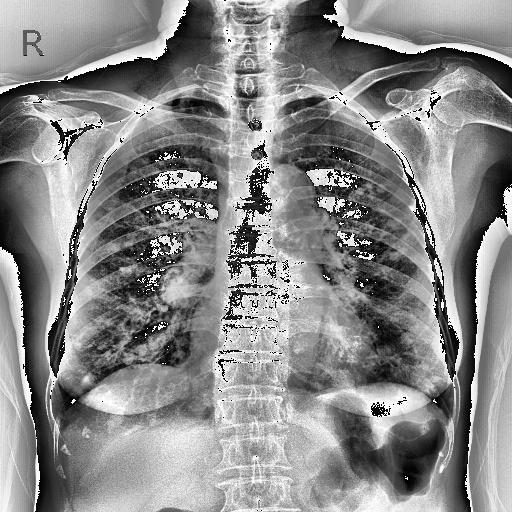0- Aortic enlargement: (250, 164, 318, 224)
10- Pleural effusion: (50, 409, 72, 438)
11- Pleural thickening: (50, 409, 72, 438), (282, 96, 333, 106)
13- Pulmonary fibrosis: (140, 210, 182, 230)
5- ILD: (326, 280, 401, 382), (97, 295, 161, 372)
7- Lung Opacity: (348, 168, 440, 266), (387, 205, 417, 229)
8- Nodule-Mass: (55, 104, 234, 417), (348, 168, 440, 266), (391, 334, 446, 394), (156, 266, 202, 310), (160, 268, 204, 308), (356, 180, 388, 198), (76, 373, 98, 389), (390, 246, 407, 262), (80, 373, 96, 389), (398, 331, 416, 344), (400, 332, 416, 346), (104, 242, 122, 254), (172, 334, 188, 346), (104, 242, 120, 253), (172, 348, 186, 360), (119, 266, 133, 278), (136, 344, 148, 356), (375, 184, 388, 194), (388, 252, 401, 260), (356, 186, 367, 195), (175, 170, 185, 178), (430, 376, 441, 383), (430, 376, 442, 382), (74, 342, 82, 350)
